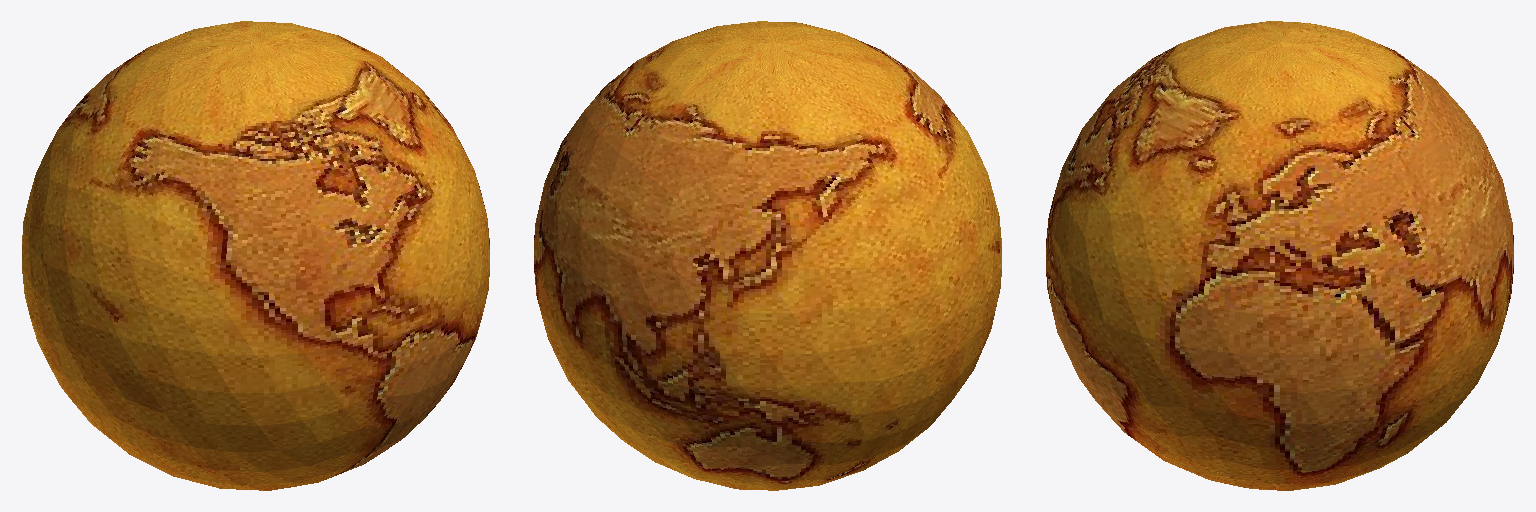
The picture shows the model from 3 angles: view 1: azimuth 30°, elevation 25°; view 2: azimuth 150°, elevation 25°; view 3: azimuth 270°, elevation 25°; orthographic projection.
Bounding box in the file's own units: 2 × 2 × 1.99.
1 materials, 1 textured.